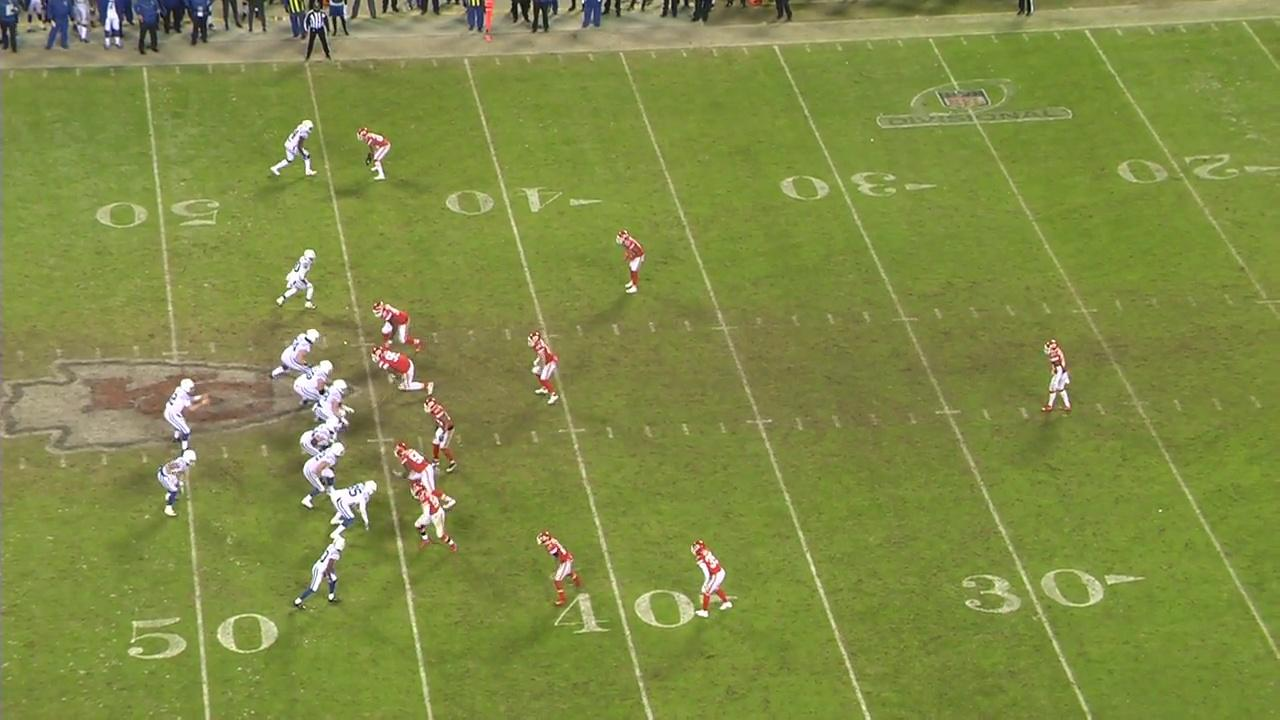player: (291, 534, 349, 614), (392, 441, 457, 512), (535, 528, 584, 607), (163, 377, 211, 455), (688, 536, 733, 619), (409, 482, 460, 553), (368, 345, 438, 396), (152, 448, 200, 520), (326, 478, 380, 541), (300, 441, 346, 512), (268, 117, 319, 179), (422, 394, 459, 475), (268, 326, 321, 382), (273, 248, 320, 311), (370, 300, 423, 354), (292, 359, 335, 422), (526, 329, 561, 406), (1039, 338, 1074, 414), (355, 126, 393, 182), (614, 228, 645, 295), (312, 377, 355, 422), (298, 415, 341, 458)
ref: (299, 2, 331, 67)
